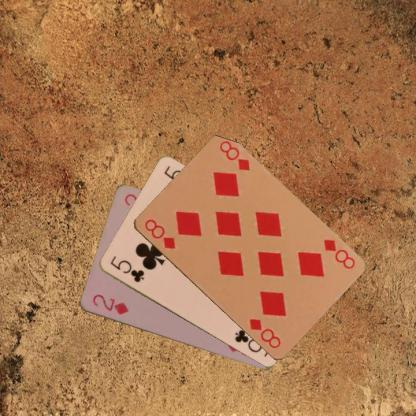2d: (90, 292, 130, 316)
5c: (107, 253, 145, 284)
8d: (320, 236, 356, 271), (142, 216, 176, 252)
